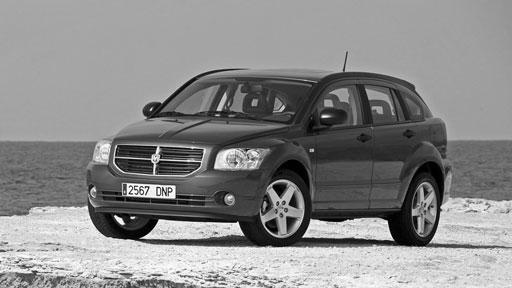car: (82, 60, 456, 251)
